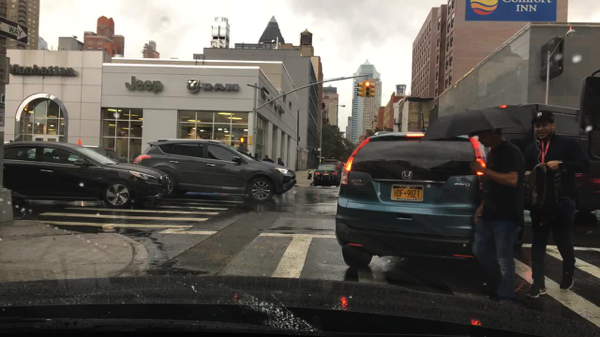car: (335, 131, 486, 270), (490, 105, 599, 214), (3, 142, 169, 210), (132, 139, 296, 205), (312, 163, 339, 188), (321, 158, 343, 177)
person: (521, 110, 590, 299), (466, 122, 528, 308), (260, 154, 274, 163), (276, 155, 284, 166), (252, 152, 260, 159)
traffic light: (355, 83, 364, 97), (368, 81, 375, 96), (365, 81, 370, 97), (240, 135, 246, 143), (249, 135, 254, 144)
traffic sign: (0, 16, 29, 44), (0, 55, 9, 86)
truck: (433, 22, 598, 118)
